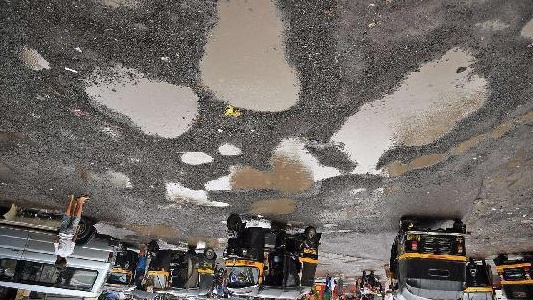pothole: (329, 46, 496, 186), (199, 0, 304, 116), (81, 64, 200, 141), (197, 136, 344, 197), (161, 182, 230, 212), (246, 195, 299, 217), (12, 45, 51, 74), (176, 151, 213, 169), (217, 144, 245, 158)
